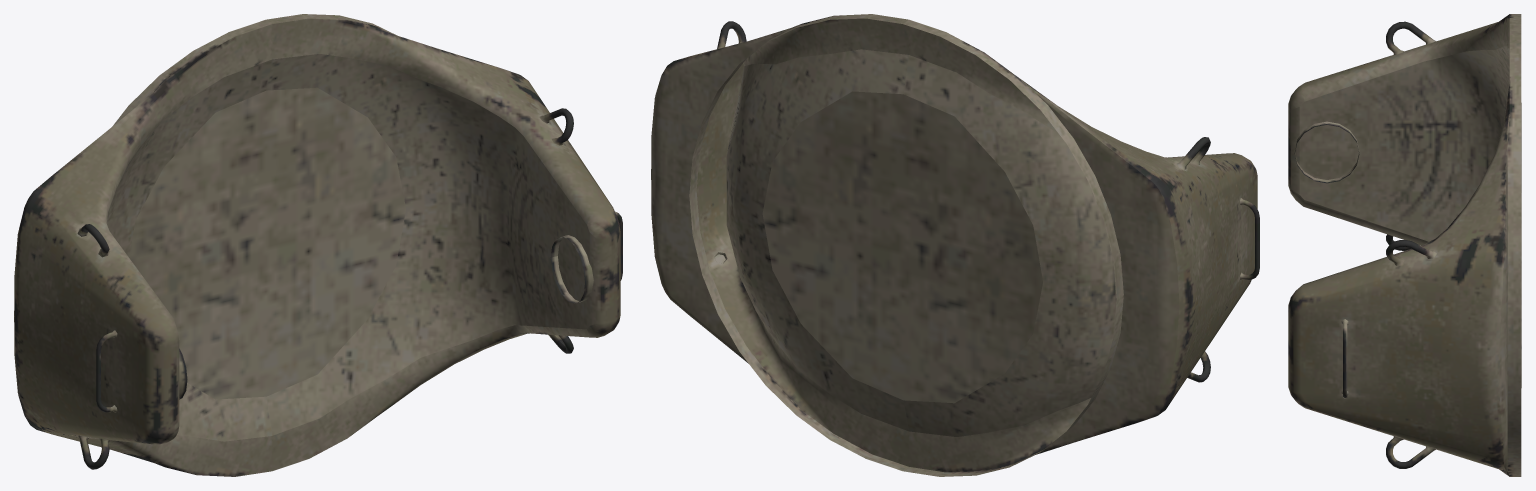
Rendered from Turret_01.glb.
3 views of the same model, side by side, from view 1: azimuth 30°, elevation 25°; view 2: azimuth 150°, elevation 25°; view 3: azimuth 270°, elevation 25° (orthographic). The views are drawn at different scales.
Parts seen in each view (by area): view 1: set_0_group_0; view 2: set_0_group_0; view 3: set_0_group_0.
Part boxes in pixels (box(x1,y1,x2,y2)): set_0_group_0: box(14, 14, 622, 476); set_0_group_0: box(651, 14, 1259, 476); set_0_group_0: box(1288, 14, 1521, 476).
Size of the model in its own units: 2.27 by 1.8 by 0.9039.
1 material, 1 textured.
